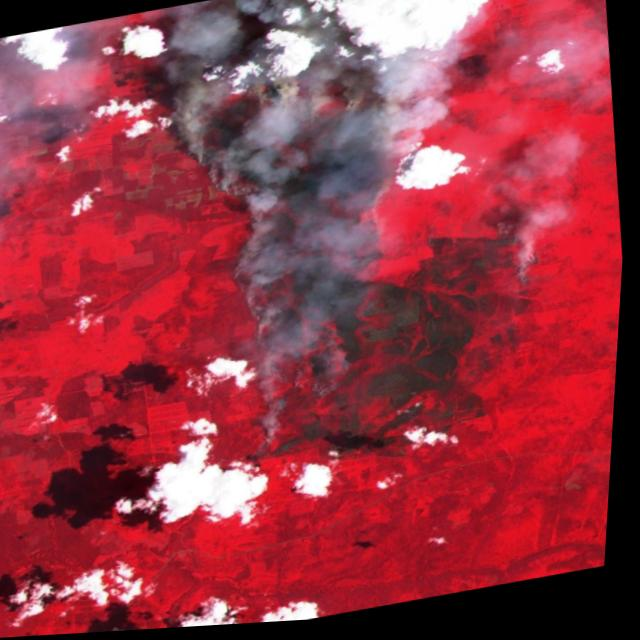fire: (145, 59, 442, 480), (429, 217, 549, 314)
